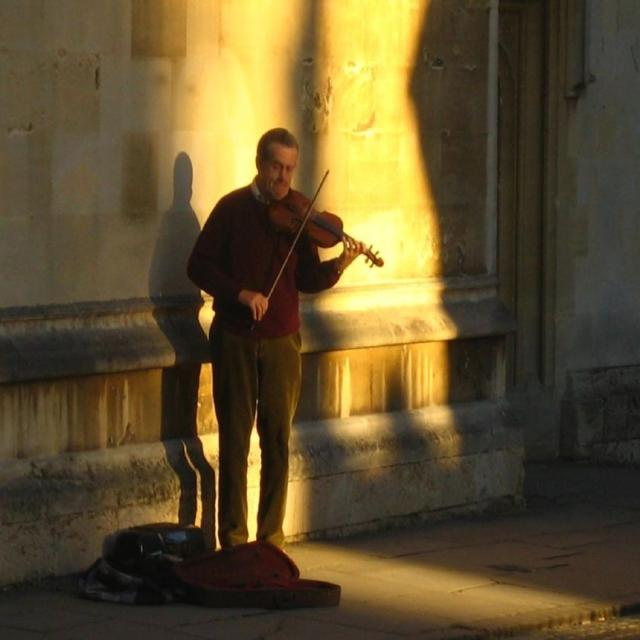violin: (263, 189, 386, 269)
